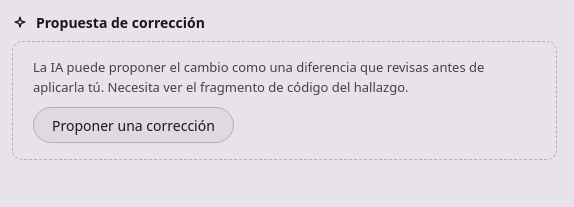
Test: Propuesta de corrección › un error se muestra con reintentar y acceso a Configuración
Later steps or results of the test are not shown.
Step 1. Click the button "Proponer una corrección" → (133, 125), box x1=33 y1=107 x2=234 y2=143
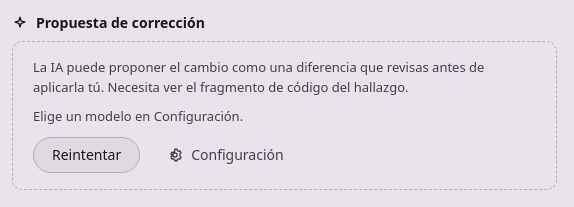
Expected: the button "Reintentar" is enabled, x1=33 y1=136 x2=140 y2=172
Expected: the message reads "Elige un modelo en Configuración.", x1=33 y1=107 x2=243 y2=125
